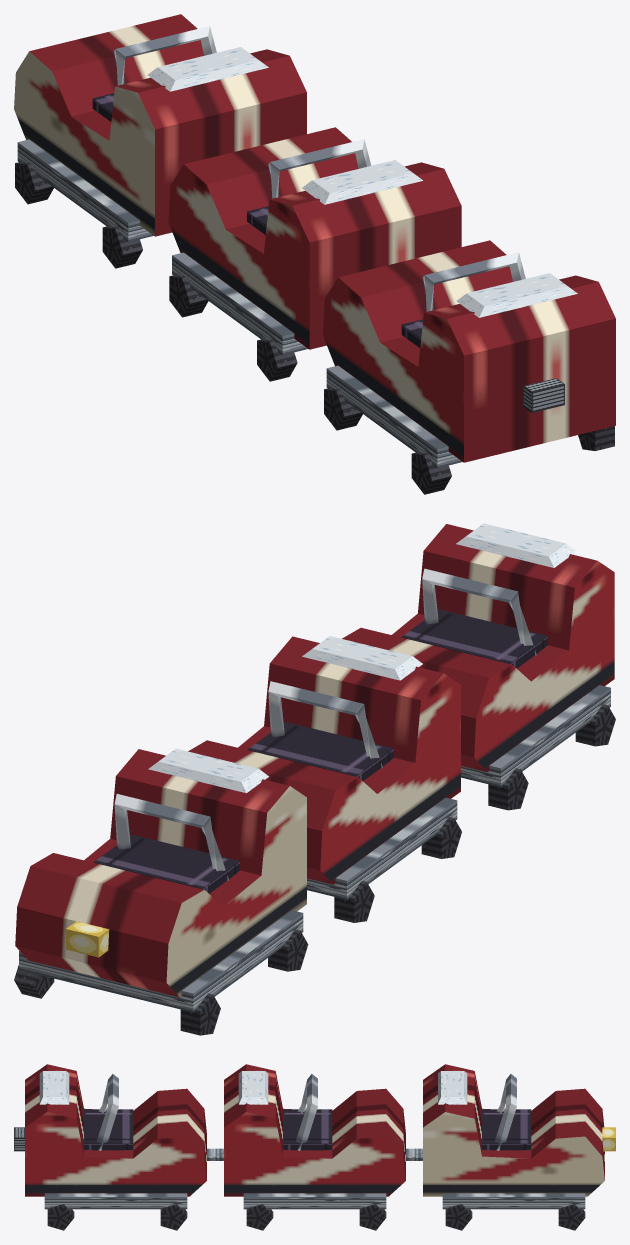
File: SnowcapScreamer.glb
3 renders of one model, top to bottom at view 1: azimuth 30°, elevation 25°; view 2: azimuth 150°, elevation 25°; view 3: azimuth 270°, elevation 25°, orthographic. The views are drawn at different scales.
Parts seen in each view (by area): view 1: SnowcapScreamer; view 2: SnowcapScreamer; view 3: SnowcapScreamer.
Boxes of the visible parts, x1=… form: SnowcapScreamer: x1=14, y1=14, x2=615, y2=494; SnowcapScreamer: x1=14, y1=523, x2=615, y2=1035; SnowcapScreamer: x1=14, y1=1064, x2=615, y2=1230.
Size of the model in its own units: 1.12 by 1.06 by 4.9.
1 material, 1 textured.
